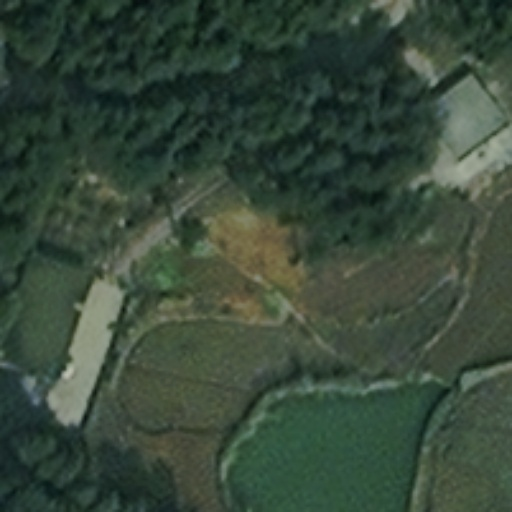landslide: (201, 205, 307, 297)
